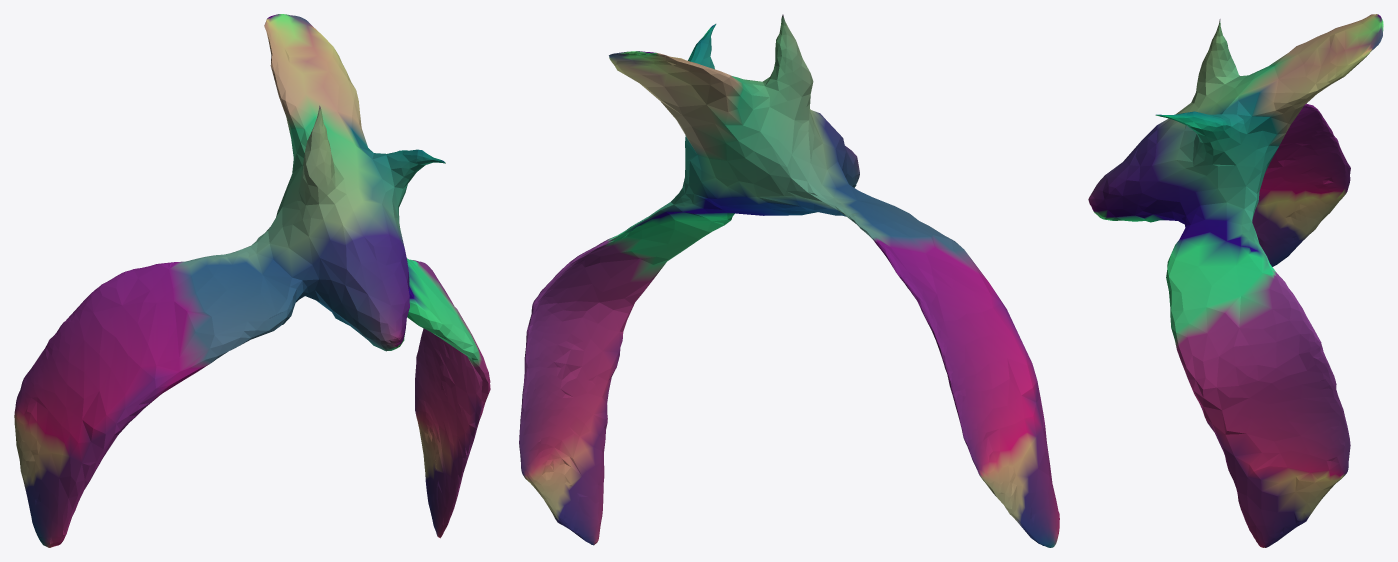
File: bird2-13.off.obj
3 views of the same model, side by side, from view 1: azimuth 30°, elevation 25°; view 2: azimuth 150°, elevation 25°; view 3: azimuth 270°, elevation 25° (orthographic). The views are drawn at different scales.
Bounding box in the file's own units: 1.14 × 1.28 × 0.7114.
